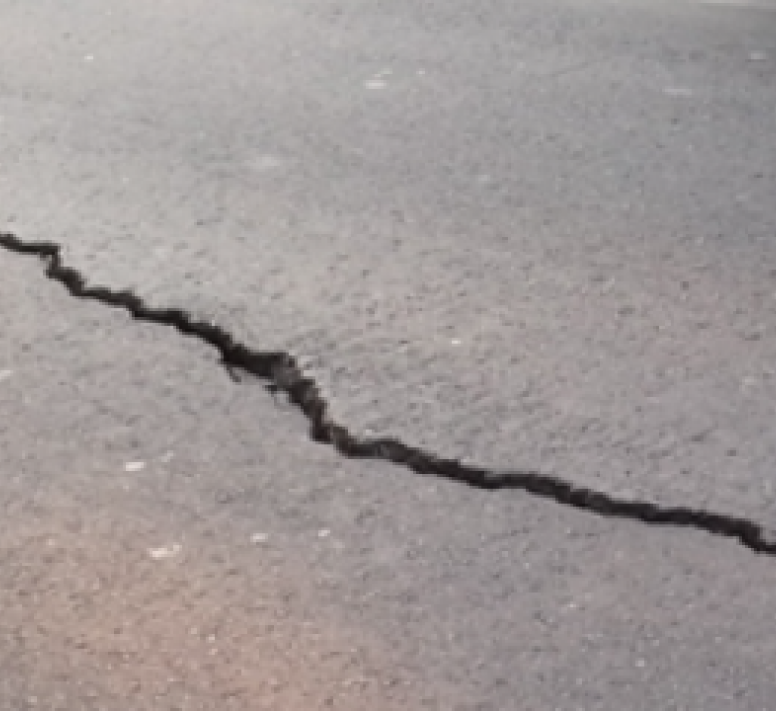Retak Melintang: (20, 235, 776, 597)
